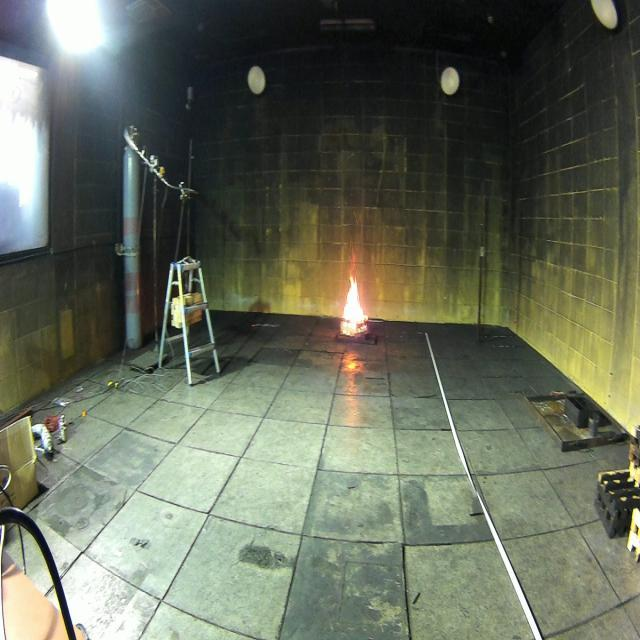Fire: (341, 275, 368, 335)
